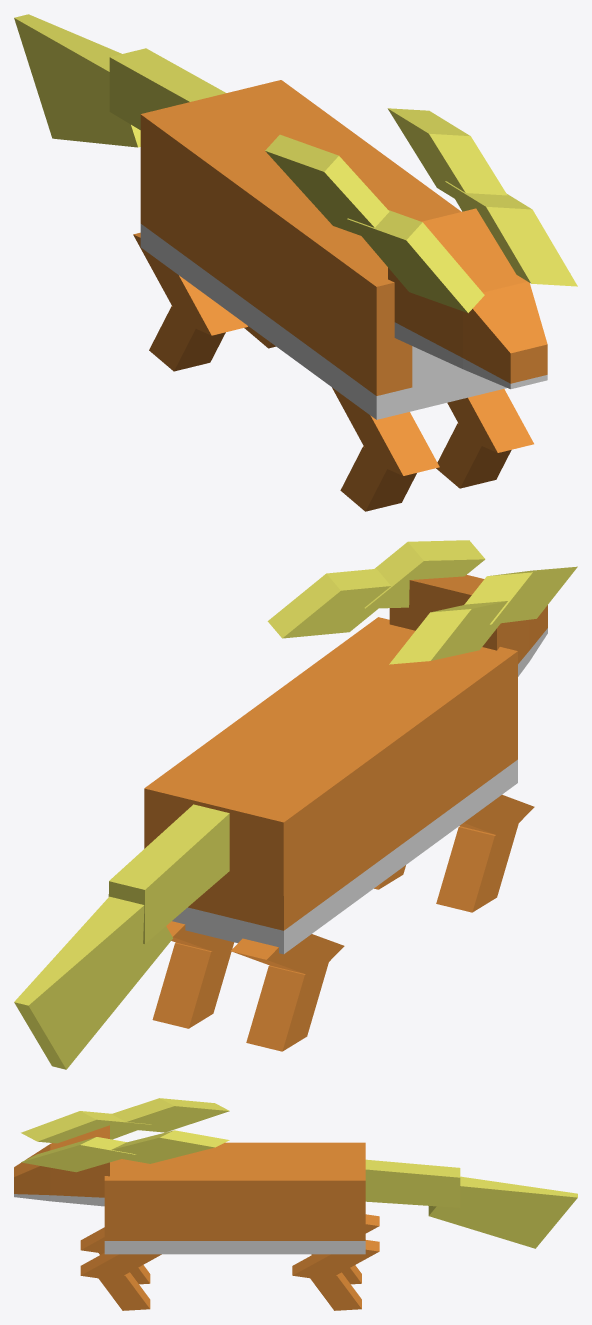
Rendered from Foxtning.fbx.
3 renders of one model, top to bottom at view 1: azimuth 30°, elevation 25°; view 2: azimuth 150°, elevation 25°; view 3: azimuth 270°, elevation 25°, orthographic. The views are drawn at different scales.
Visible parts, largest first — view 1: Cube, Cube.001, Cube.006, Cube.011, Cube.008, Cube.005, Cube.004, Cube.002, Cube.009, Cube.010, Cube.013; view 2: Cube, Cube.006, Cube.008, Cube.011, Cube.001, Cube.013, Cube.009, Cube.012, Cube.002, Cube.005, Cube.003; view 3: Cube, Cube.006, Cube.011, Cube.008, Cube.001, Cube.003, Cube.004, Cube.010, Cube.012, Cube.005, Cube.009.
Boxes of the visible parts, x1,y1,x2,y2 form: Cube: [140, 80, 506, 419]; Cube.001: [388, 208, 547, 389]; Cube.006: [14, 14, 226, 147]; Cube.011: [265, 134, 484, 313]; Cube.008: [387, 108, 577, 286]; Cube.005: [332, 387, 439, 475]; Cube.004: [447, 389, 533, 452]; Cube.002: [133, 232, 247, 335]; Cube.009: [340, 446, 416, 511]; Cube.010: [436, 423, 511, 488]; Cube.013: [149, 306, 225, 371]; Cube: [144, 617, 517, 954]; Cube.006: [14, 804, 229, 1069]; Cube.008: [267, 540, 485, 638]; Cube.011: [389, 566, 577, 664]; Cube.001: [389, 575, 547, 676]; Cube.013: [246, 960, 329, 1051]; Cube.009: [436, 823, 518, 912]; Cube.012: [152, 942, 234, 1028]; Cube.002: [231, 934, 344, 976]; Cube.005: [460, 794, 534, 837]; Cube.003: [166, 921, 231, 954]; Cube: [104, 1142, 365, 1254]; Cube.006: [365, 1159, 577, 1248]; Cube.011: [21, 1098, 229, 1143]; Cube.008: [21, 1130, 229, 1172]; Cube.001: [14, 1125, 109, 1206]; Cube.003: [292, 1240, 379, 1280]; Cube.004: [80, 1253, 161, 1280]; Cube.010: [98, 1272, 150, 1310]; Cube.012: [310, 1272, 361, 1310]; Cube.005: [80, 1227, 104, 1252]; Cube.009: [98, 1251, 150, 1284].
Size of the model in its own units: 121 by 223 by 650.
